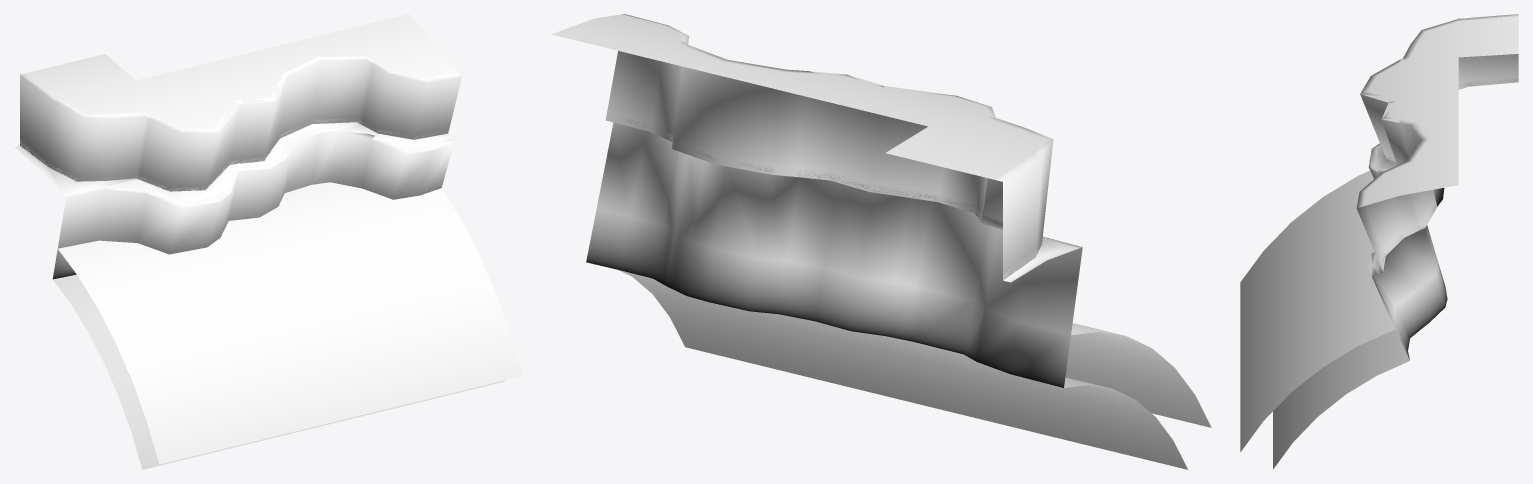
The model's file is grd_Ee_M_0.dae.
3 views of the same model, side by side, from view 1: azimuth 30°, elevation 25°; view 2: azimuth 150°, elevation 25°; view 3: azimuth 270°, elevation 25° (orthographic). The views are drawn at different scales.
Visible parts, largest first — view 1: grd_Ee_M_0; view 2: grd_Ee_M_0; view 3: grd_Ee_M_0.
Boxes of the visible parts, x1,y1,x2,y2 form: grd_Ee_M_0: (15, 14, 522, 469); grd_Ee_M_0: (551, 14, 1211, 469); grd_Ee_M_0: (1240, 14, 1518, 469).
Bounding box in the file's own units: 512 × 404 × 354.
Materials: 5 (1 with a texture image).
